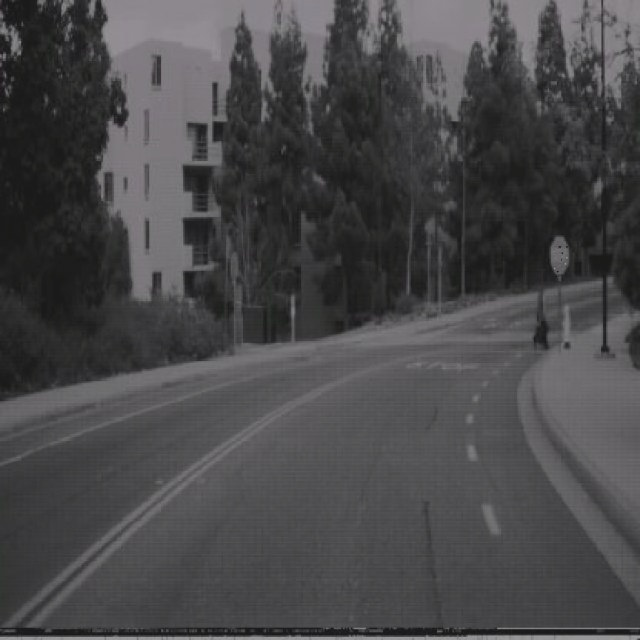stop: (549, 235, 569, 276)
